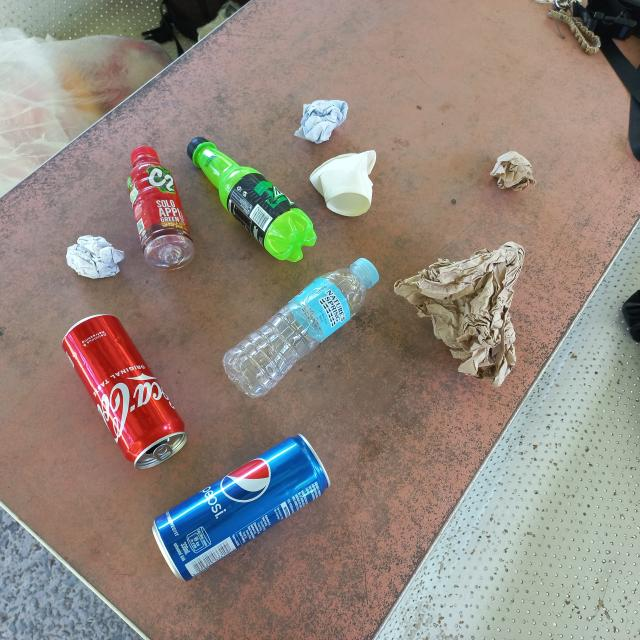Anorganik: (144, 427, 340, 589), (217, 253, 384, 402), (54, 308, 194, 477), (180, 132, 320, 268), (122, 141, 201, 274)
Organik: (388, 236, 532, 392), (303, 144, 383, 222), (61, 230, 131, 283), (289, 95, 355, 148), (487, 146, 541, 198)
